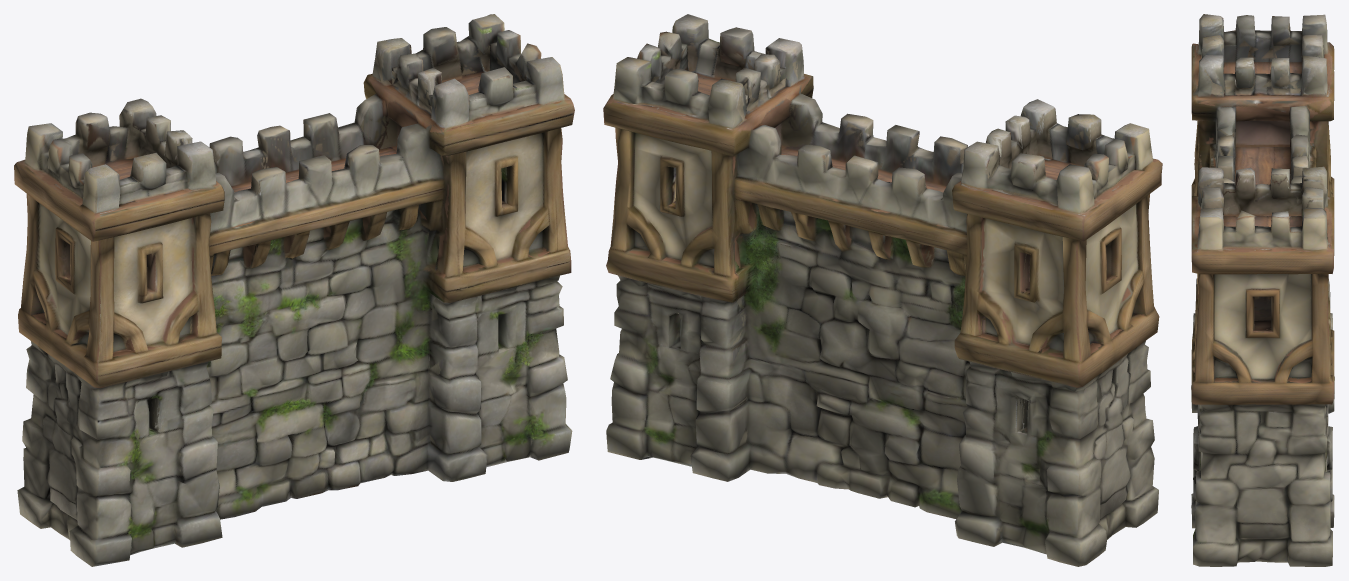
File: _Whimsical_slightly__1104084935_texture.glb
3 views of the same model, side by side, from view 1: azimuth 30°, elevation 25°; view 2: azimuth 150°, elevation 25°; view 3: azimuth 270°, elevation 25° (orthographic). The views are drawn at different scales.
Bounding box in the file's own units: 1.91 × 1.46 × 0.549.
Materials: 1 (1 with a texture image).
